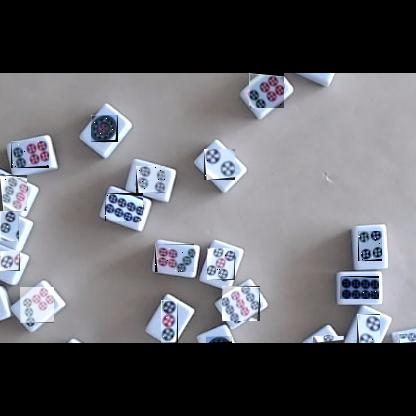1p: (91, 115, 118, 142), (206, 336, 232, 343)
2p: (204, 149, 235, 180), (357, 314, 380, 343)
3p: (161, 300, 178, 343), (0, 251, 20, 271)
4p: (136, 166, 165, 193), (358, 231, 382, 261), (0, 211, 19, 241)
5p: (207, 248, 235, 280), (312, 336, 344, 343)
6p: (249, 73, 284, 108), (11, 141, 49, 168)
7p: (20, 287, 54, 323), (155, 244, 194, 272), (399, 333, 416, 343)
8p: (105, 193, 143, 221), (340, 276, 379, 299)
9p: (222, 286, 260, 321), (0, 175, 27, 211)
